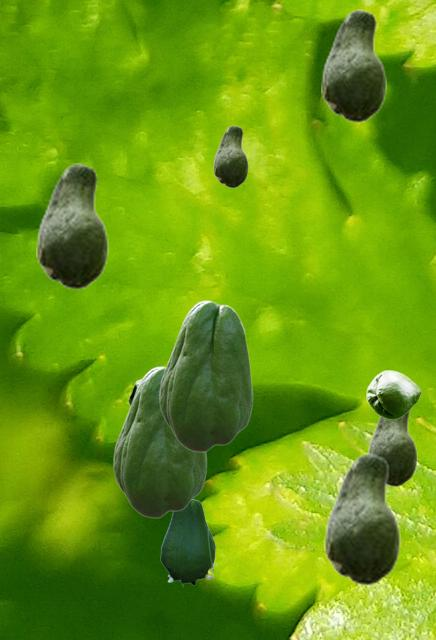sayote: (113, 366, 206, 517), (159, 300, 252, 451), (324, 453, 399, 585), (36, 163, 107, 289), (321, 9, 385, 122), (160, 499, 216, 586), (367, 409, 416, 486), (366, 370, 420, 418), (213, 125, 247, 187), (128, 379, 140, 406)
